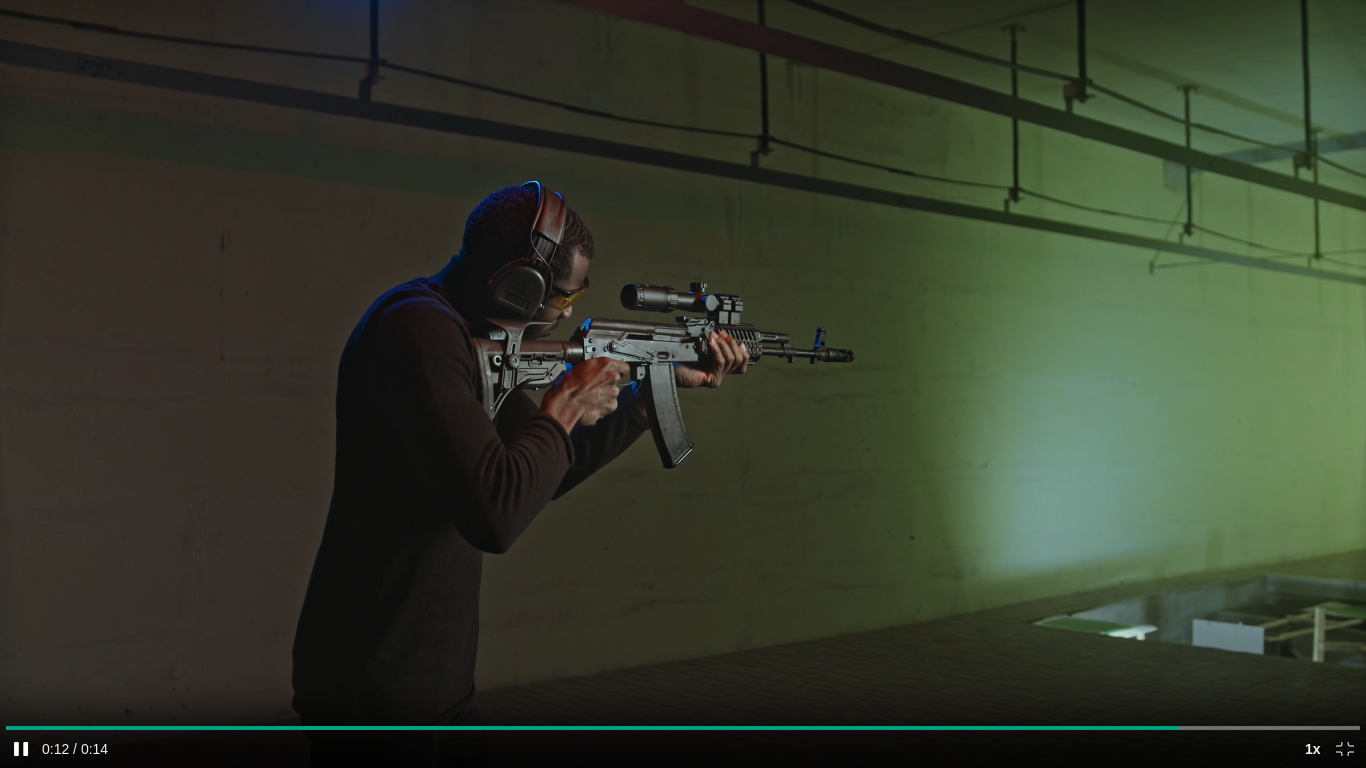gun: (468, 281, 858, 473)
p_w_gun: (287, 172, 862, 731)
